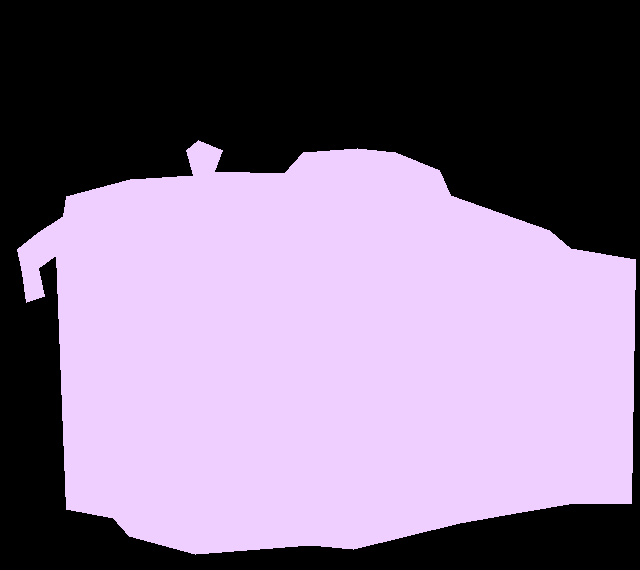Train: (17, 140, 635, 554)
